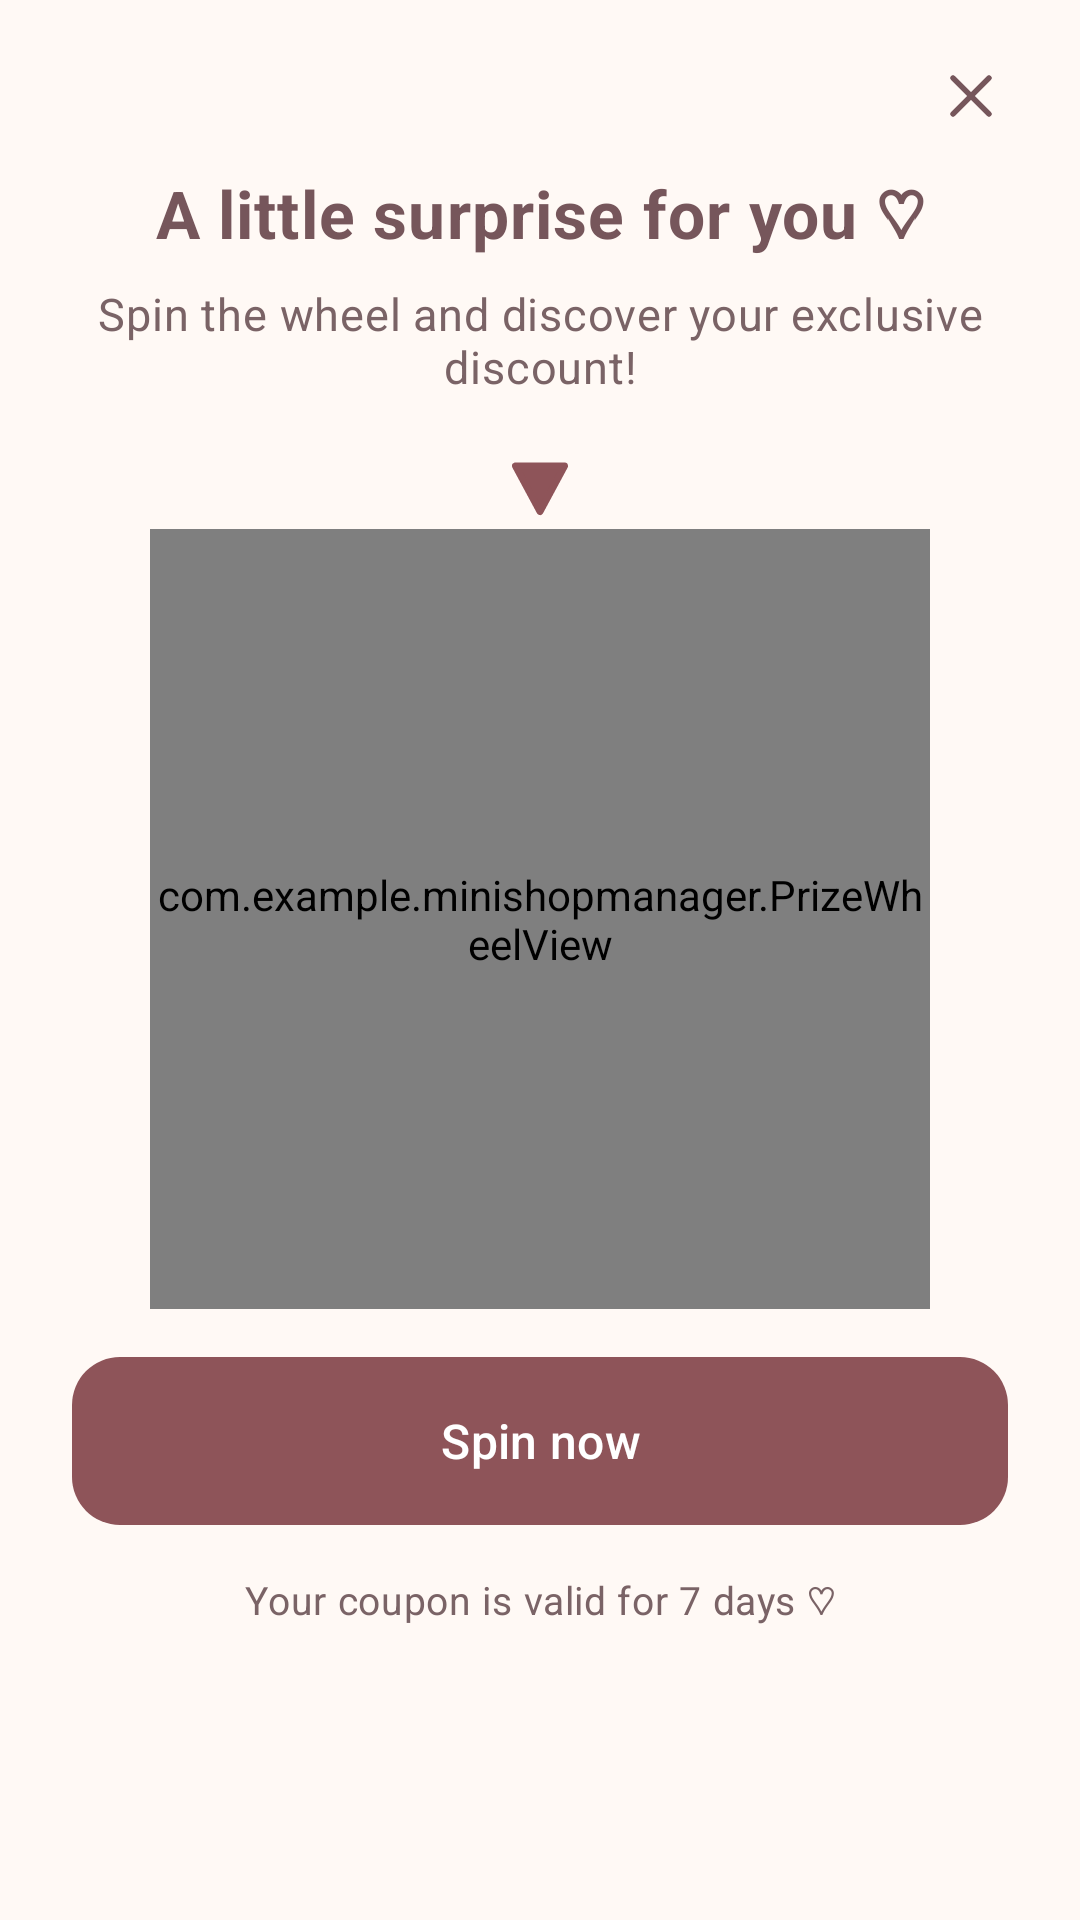

Icons on this 1080px×1920px Android screen, each with its box as (x1, y1, x2, y2):
Close pop-up: (950, 75, 992, 117)
pointer: (512, 462, 568, 515)
